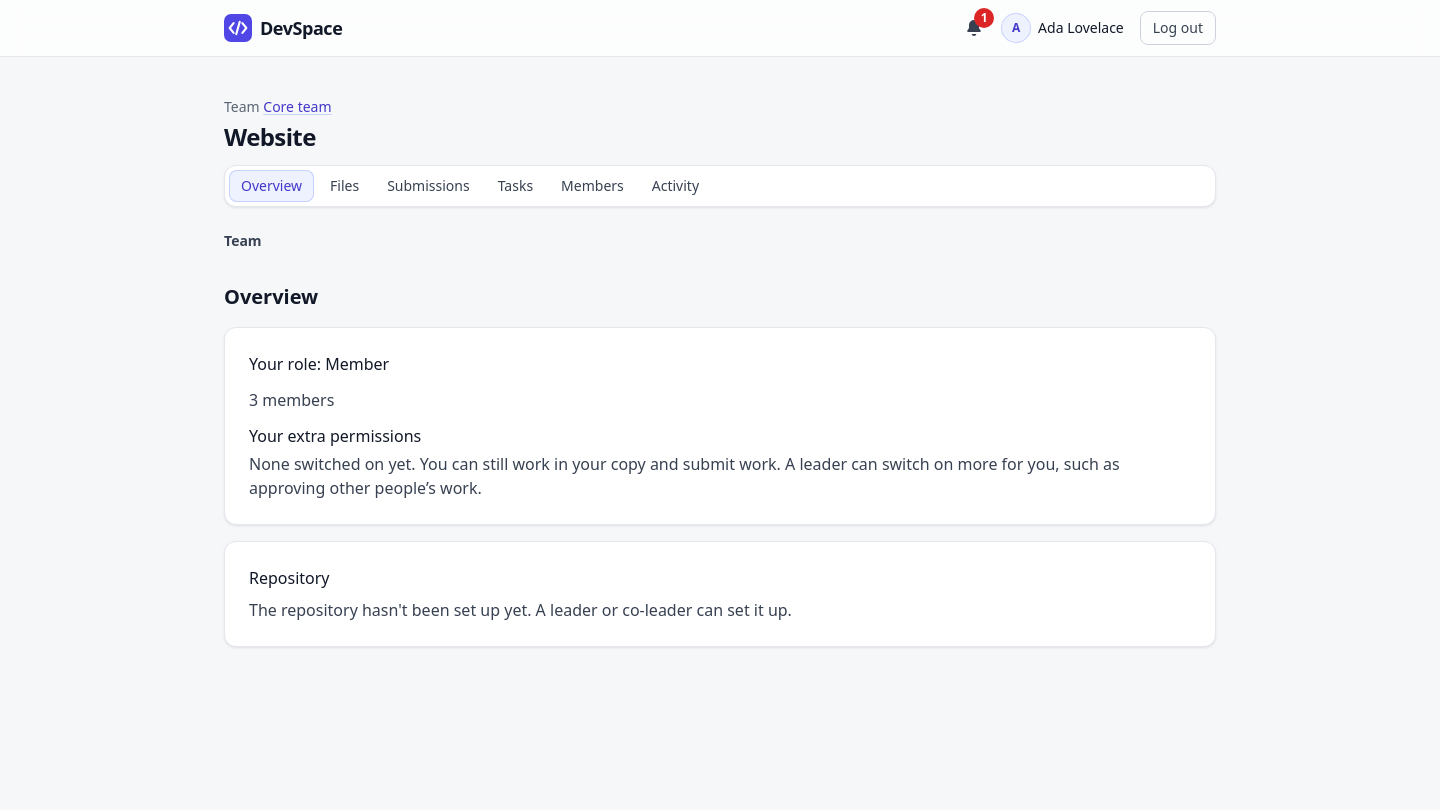
Test case: the notification bell › shows the unread count, lists notifications with links, and marks all read
The width and height of the screenshot is (1440, 810).
Expected: the text with test id "notification-count" reads "1", [981,9,988,26]
Click the button named "Notifications": (974, 28) [958,12,990,44]
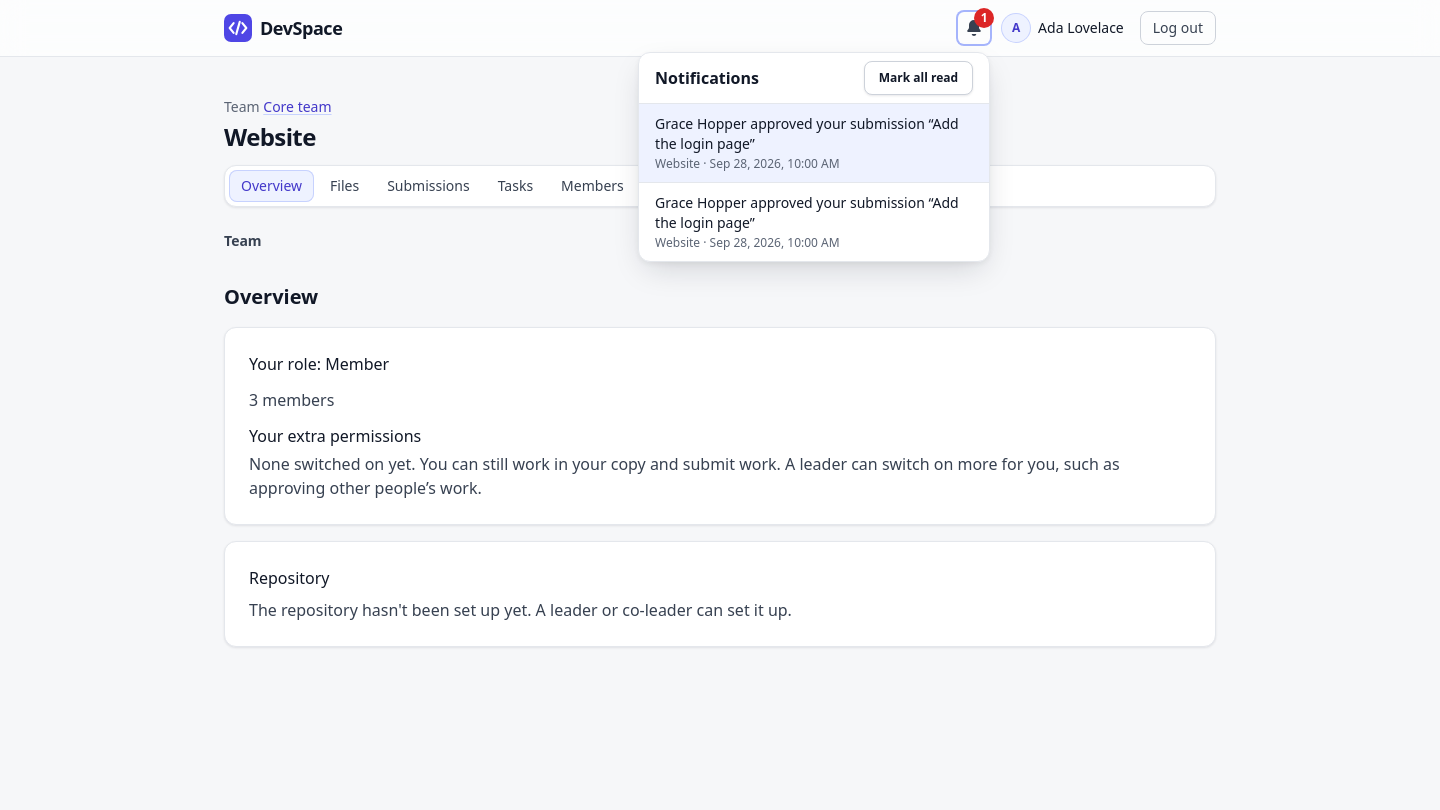
Expected: the number of list items is 2, [639,104,989,183]; [639,183,989,261]
Click the button "Mark all read": (918, 78) [864,61,973,95]
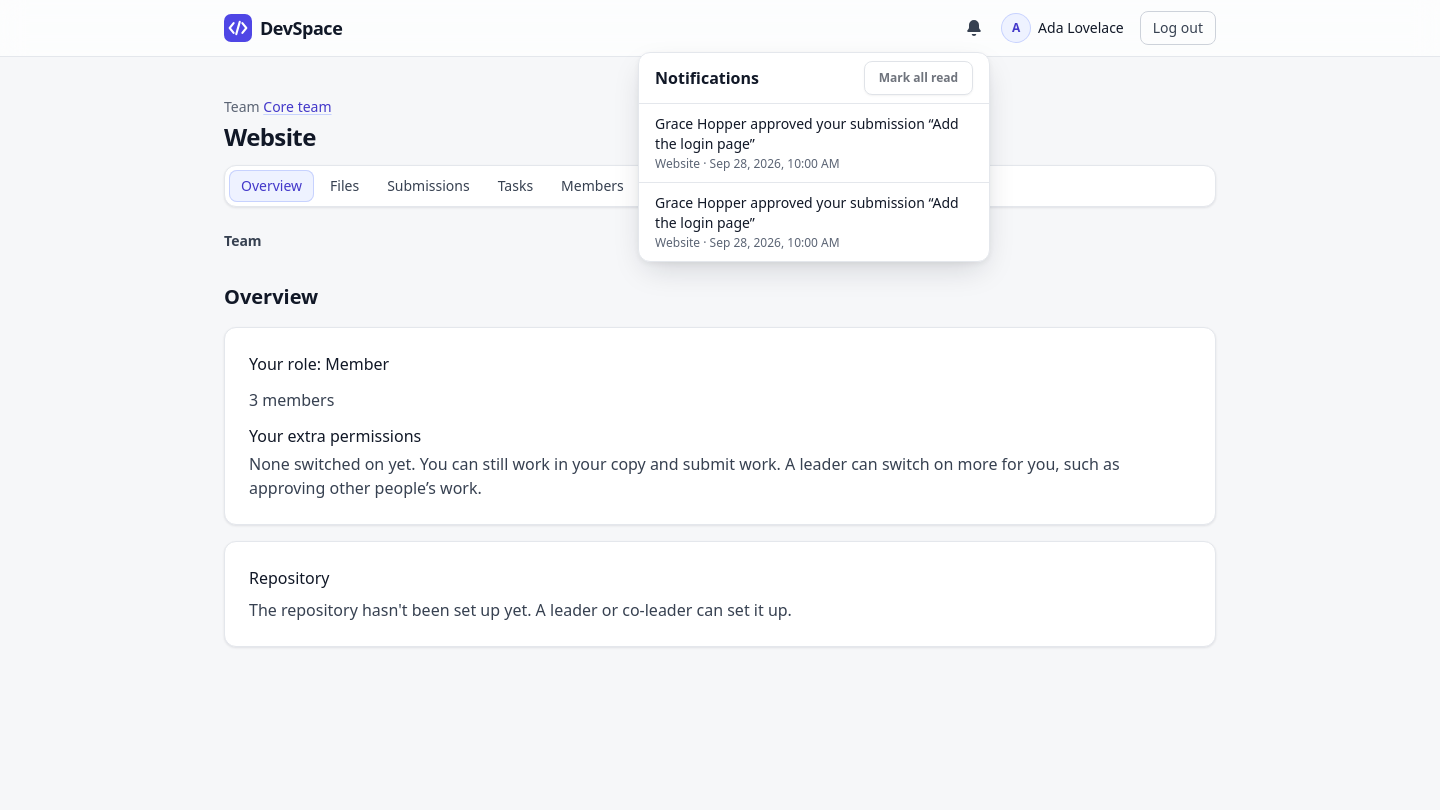
Expected: the text with test id "notification-count" is gone
